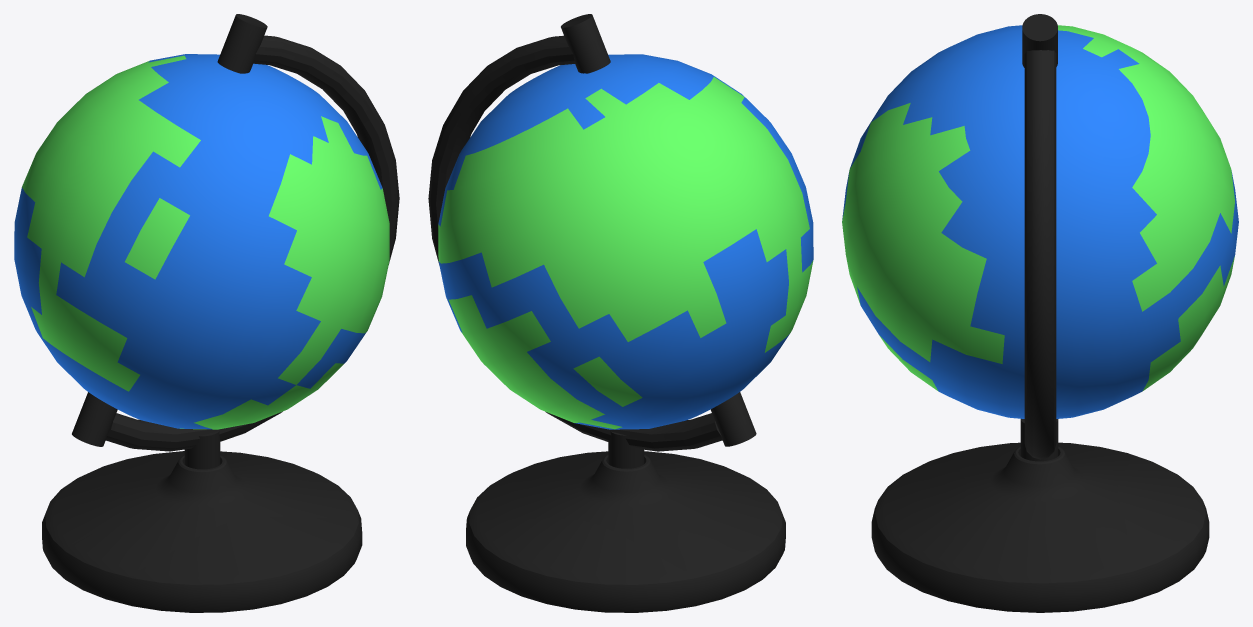
The model's file is globe.glb.
The picture shows the model from 3 angles, left to right: view 1: azimuth 30°, elevation 25°; view 2: azimuth 150°, elevation 25°; view 3: azimuth 270°, elevation 25°; orthographic projection. The views are drawn at different scales.
Parts seen in each view (by area): view 1: Circle.001, Cylinder.058; view 2: Circle.001, Cylinder.058; view 3: Circle.001, Cylinder.058.
Boxes of the visible parts, <box> form: Circle.001: <box>14,54,389,429</box>; Cylinder.058: <box>42,14,399,612</box>; Circle.001: <box>438,54,813,429</box>; Cylinder.058: <box>428,14,785,612</box>; Circle.001: <box>842,25,1238,418</box>; Cylinder.058: <box>871,14,1209,612</box>.
Size of the model in its own units: 0.2699 by 0.3752 by 0.2456.
1 material, 1 textured.
